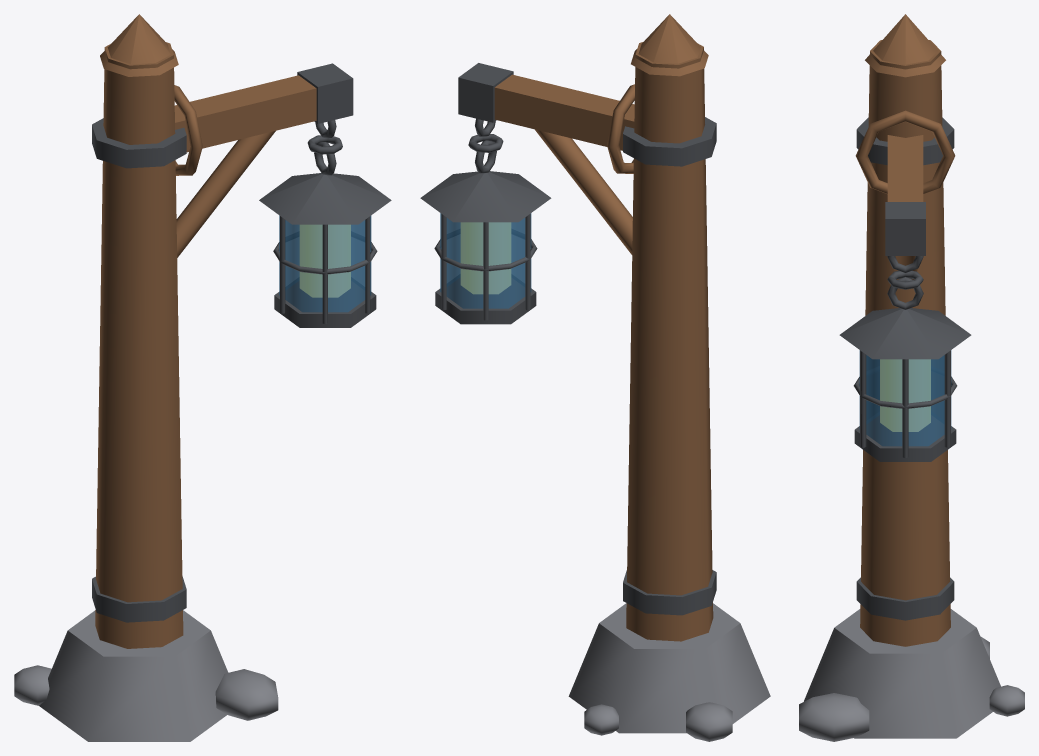
Rendered from lantern-post.glb.
3 renders of one model, left to right at view 1: azimuth 30°, elevation 25°; view 2: azimuth 150°, elevation 25°; view 3: azimuth 270°, elevation 25°, orthographic.
Visible parts, largest first — view 1: Mesh_MainPost, Mesh_StoneFooting, Mesh_LanternGlass, Mesh_WoodArm, Mesh_LanternCap, Mesh_WoodBrace, Mesh_LanternGlow, Mesh_LanternBottom, Mesh_PostCap, Mesh_BaseRock1, Mesh_IronBandUpper, Mesh_ArmEndCap (+4 smaller); view 2: Mesh_MainPost, Mesh_StoneFooting, Mesh_LanternGlass, Mesh_WoodArm, Mesh_LanternCap, Mesh_WoodBrace, Mesh_LanternBottom, Mesh_LanternGlow, Mesh_PostCap, Mesh_IronBandUpper, Mesh_ArmEndCap, Mesh_IronBandLower (+5 smaller); view 3: Mesh_MainPost, Mesh_StoneFooting, Mesh_LanternGlass, Mesh_LanternCap, Mesh_LanternGlow, Mesh_BaseRock1, Mesh_LanternBottom, Mesh_PostCap, Mesh_RopeWrap, Mesh_WoodArm, Mesh_ArmEndCap, Mesh_IronBandLower (+8 smaller).
Part boxes in pixels (<box>): Mesh_MainPost: <box>95,42,183,648</box>; Mesh_StoneFooting: <box>38,610,228,741</box>; Mesh_LanternGlass: <box>279,215,371,312</box>; Mesh_WoodArm: <box>174,75,316,152</box>; Mesh_LanternCap: <box>259,173,391,224</box>; Mesh_WoodBrace: <box>176,131,275,257</box>; Mesh_LanternGlow: <box>300,225,350,297</box>; Mesh_LanternBottom: <box>274,281,376,327</box>; Mesh_PostCap: <box>100,14,178,76</box>; Mesh_BaseRock1: <box>215,669,278,720</box>; Mesh_IronBandUpper: <box>92,118,186,168</box>; Mesh_ArmEndCap: <box>297,63,353,123</box>; Mesh_MainPost: <box>626,42,713,641</box>; Mesh_StoneFooting: <box>568,603,770,733</box>; Mesh_LanternGlass: <box>440,213,531,308</box>; Mesh_WoodArm: <box>494,74,634,150</box>; Mesh_LanternCap: <box>420,171,551,222</box>; Mesh_WoodBrace: <box>535,129,632,254</box>; Mesh_LanternBottom: <box>435,278,536,324</box>; Mesh_LanternGlow: <box>461,222,510,293</box>; Mesh_PostCap: <box>631,14,708,76</box>; Mesh_IronBandUpper: <box>623,117,716,166</box>; Mesh_ArmEndCap: <box>458,63,513,122</box>; Mesh_IronBandLower: <box>623,570,716,615</box>; Mesh_MainPost: <box>860,40,950,646</box>; Mesh_StoneFooting: <box>804,609,1000,738</box>; Mesh_LanternGlass: <box>859,350,951,446</box>; Mesh_LanternCap: <box>839,308,971,359</box>; Mesh_LanternGlow: <box>880,359,930,431</box>; Mesh_BaseRock1: <box>799,693,869,741</box>; Mesh_LanternBottom: <box>854,415,956,461</box>; Mesh_PostCap: <box>865,14,945,77</box>; Mesh_RopeWrap: <box>855,110,955,193</box>; Mesh_WoodArm: <box>887,135,923,201</box>; Mesh_ArmEndCap: <box>885,202,925,255</box>; Mesh_IronBandLower: <box>856,577,954,620</box>.
Bounding box in the file's own units: 0.3729 × 0.749 × 0.2219.
3 materials, 3 textured.
